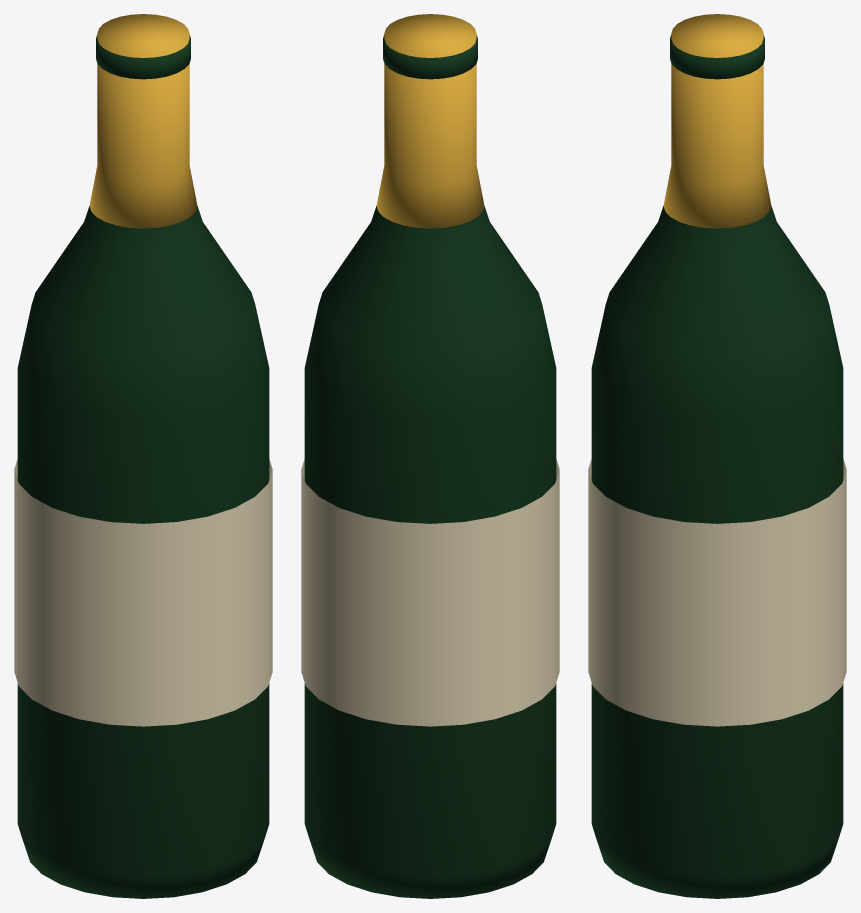
File: sih_champagne.gltf
The picture shows the model from 3 angles, left to right: view 1: azimuth 30°, elevation 25°; view 2: azimuth 150°, elevation 25°; view 3: azimuth 270°, elevation 25°; orthographic projection.
Visible parts, largest first — view 1: sih_champagne; view 2: sih_champagne; view 3: sih_champagne.
Boxes of the visible parts, x1,y1,x2,y2 form: sih_champagne: (14, 14, 272, 898); sih_champagne: (301, 14, 559, 898); sih_champagne: (588, 14, 846, 898).
Bounding box in the file's own units: 0.0924 × 0.322 × 0.0924.
3 materials, 3 textured.
